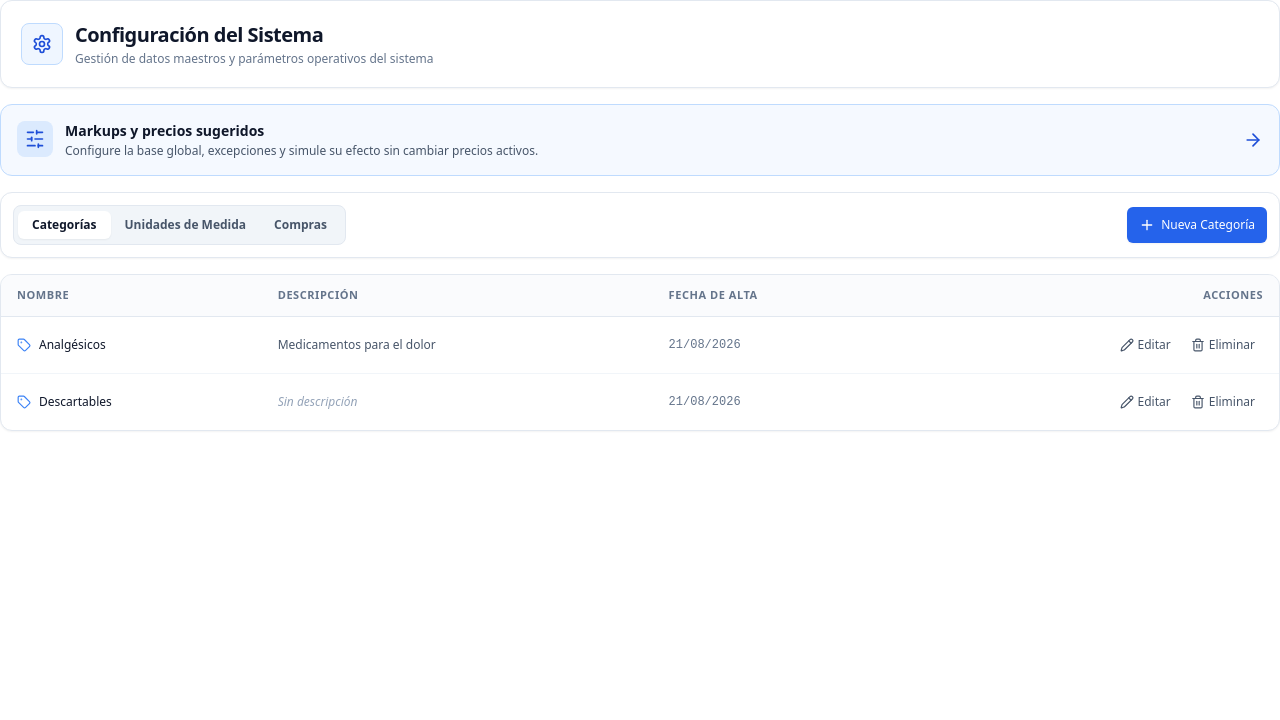
Scenario: SettingsPage master catalog management › Units CRUD Operations › edits an existing unit of measure with delta payload
The width and height of the screenshot is (1280, 720).
Expected: the heading "Configuración del Sistema" is shown, x1=75 y1=21 x2=323 y2=48
Click the tab "Unidades de Medida" at coordinates (185, 225), box x1=110 y1=211 x2=260 y2=239
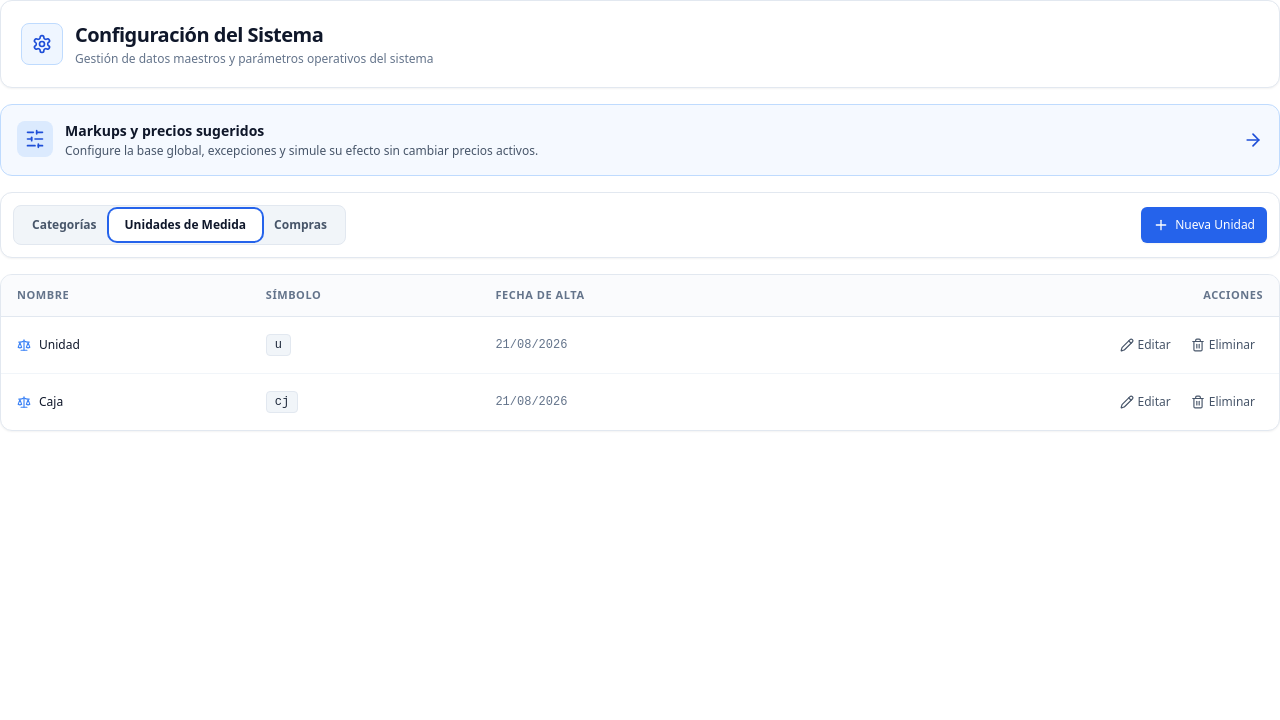
Click the button with aria-label "Editar unidad Unidad" at coordinates (1145, 344), box x1=1112 y1=328 x2=1179 y2=360
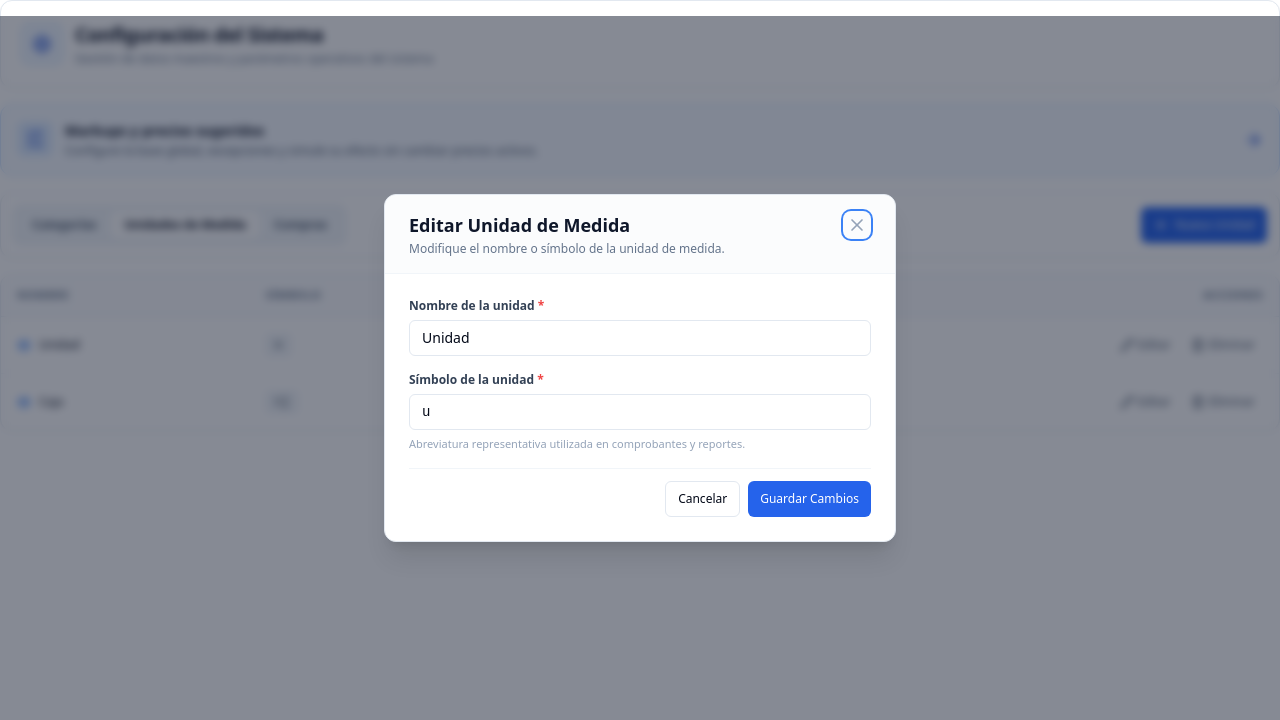
Result: the heading "Editar Unidad de Medida" is shown at x1=409 y1=213 x2=630 y2=237
No changes notice
Click the button "Guardar Cambios" at coordinates (810, 499), box x1=748 y1=481 x2=871 y2=517
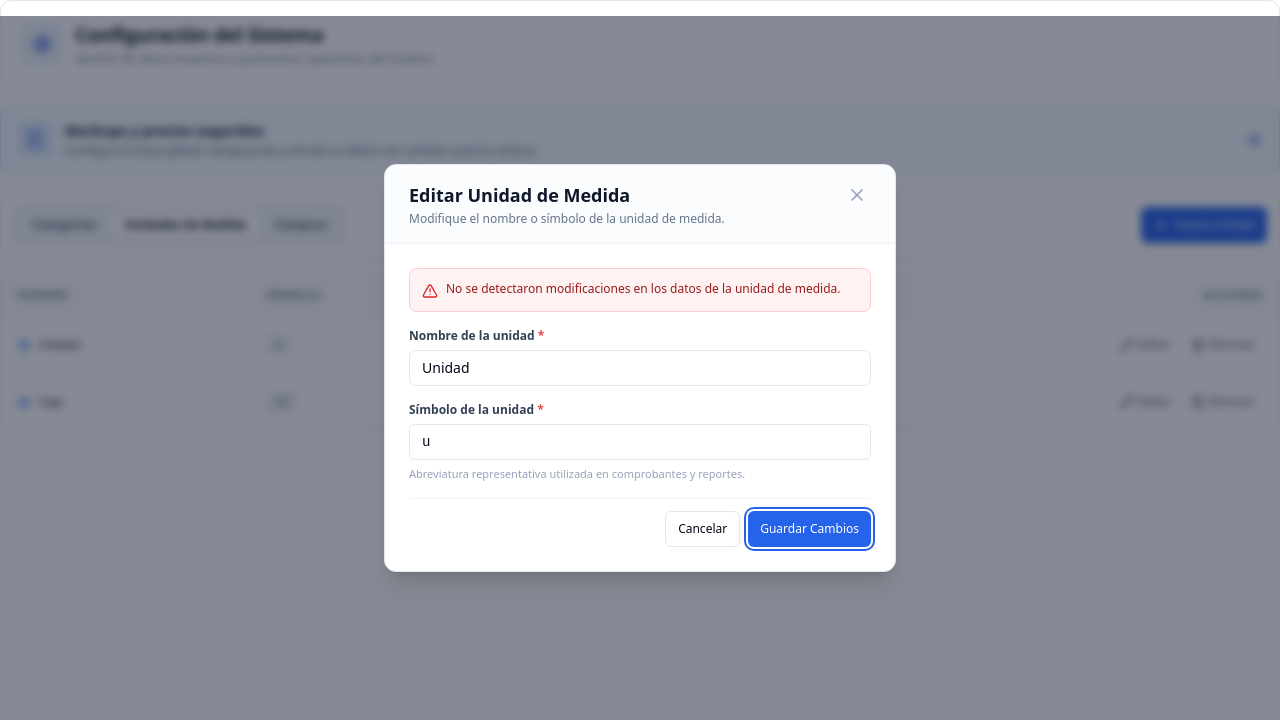
Result: the text "No se detectaron modificaciones en los datos de la unidad de medida." is shown at x1=446 y1=281 x2=858 y2=297
Modify symbol
Clear the field labelled "Símbolo de la unidad *" at coordinates (640, 442), box x1=409 y1=424 x2=871 y2=460
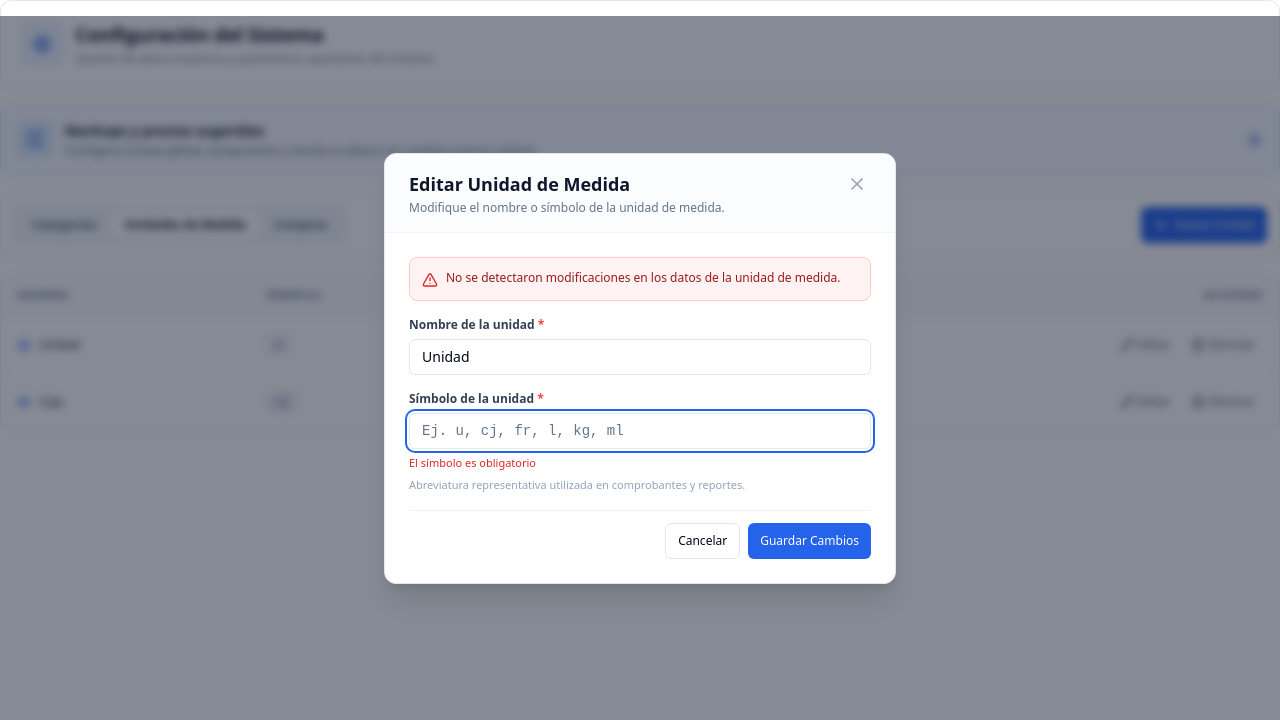
Type "und" into the field labelled "Símbolo de la unidad *" at coordinates (640, 430), box x1=409 y1=412 x2=871 y2=448
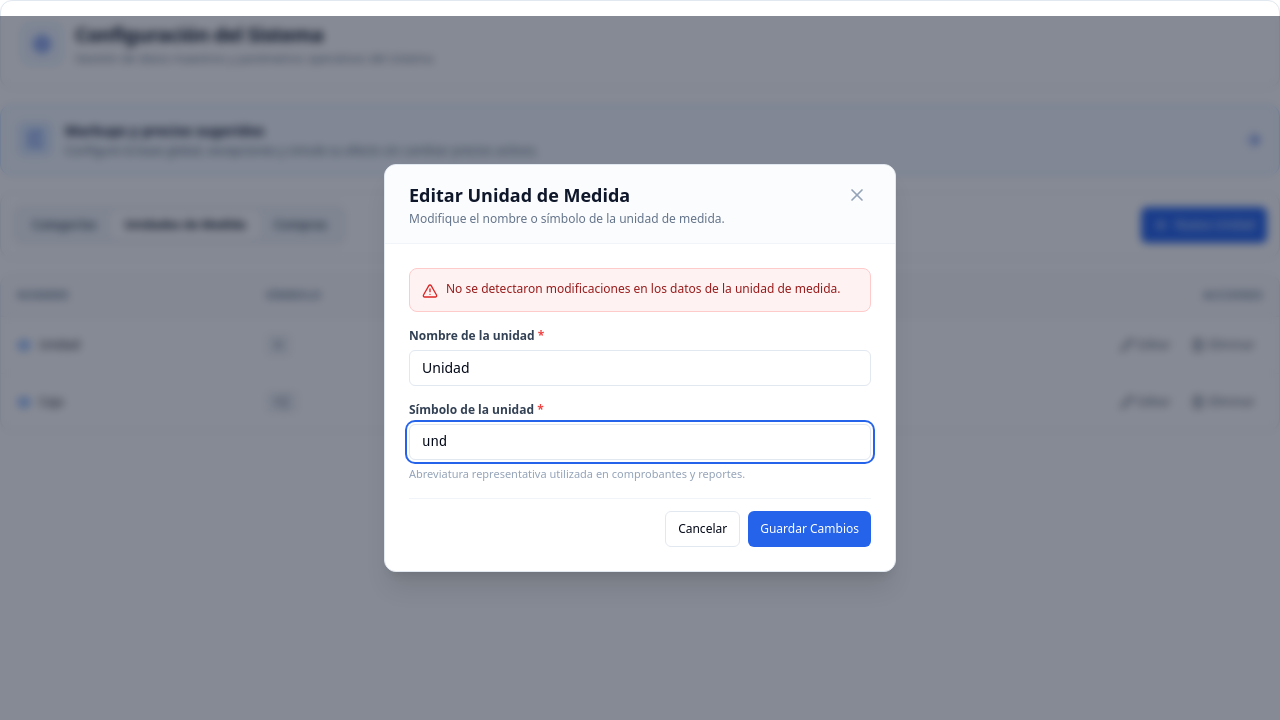
Click the button "Guardar Cambios" at coordinates (810, 529), box x1=748 y1=511 x2=871 y2=547
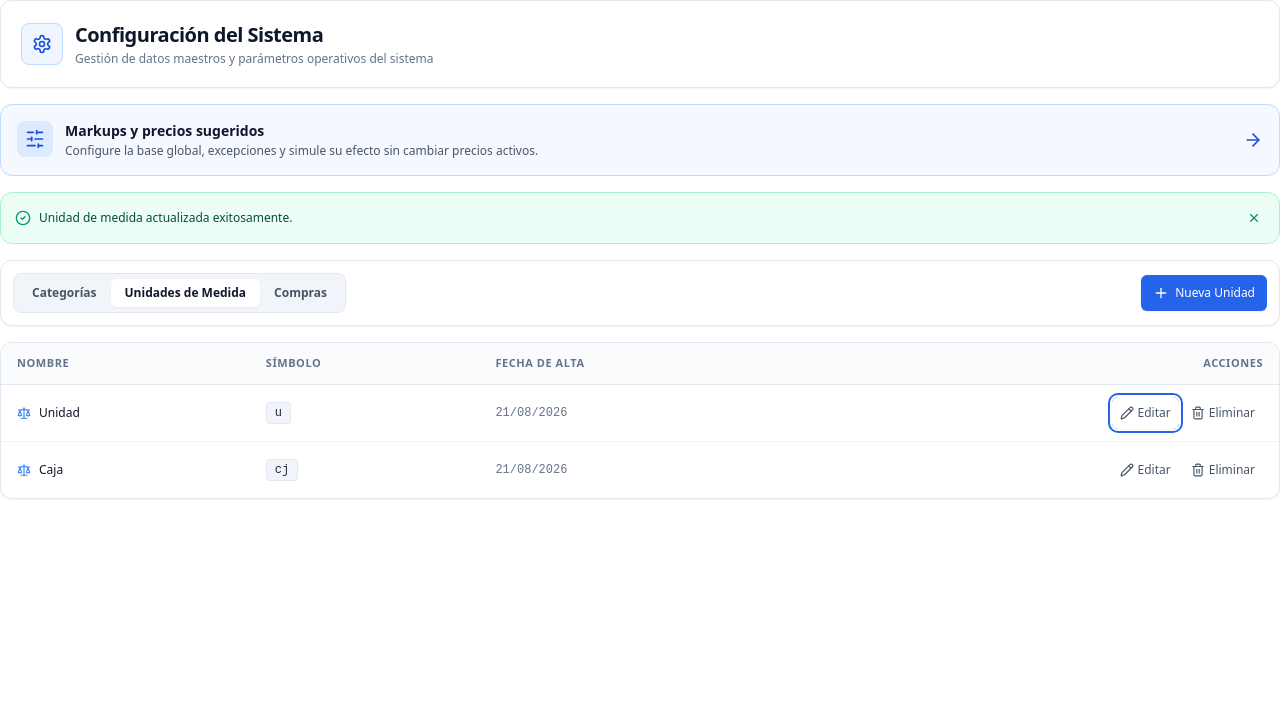
Result: the dialog is gone
Result: the text "Unidad de medida actualizada exitosamente." is shown at x1=39 y1=210 x2=292 y2=226
